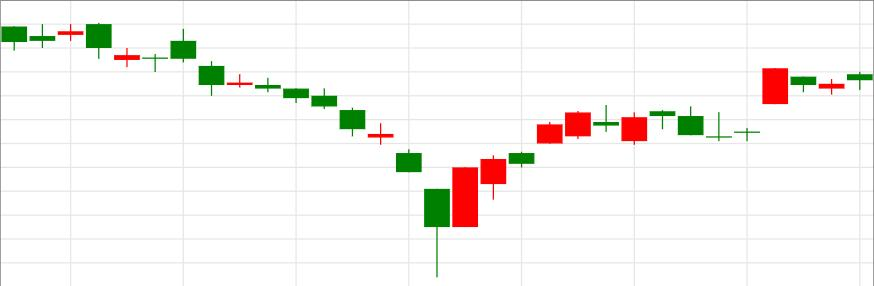hammer_rise: (255, 76, 449, 277)
